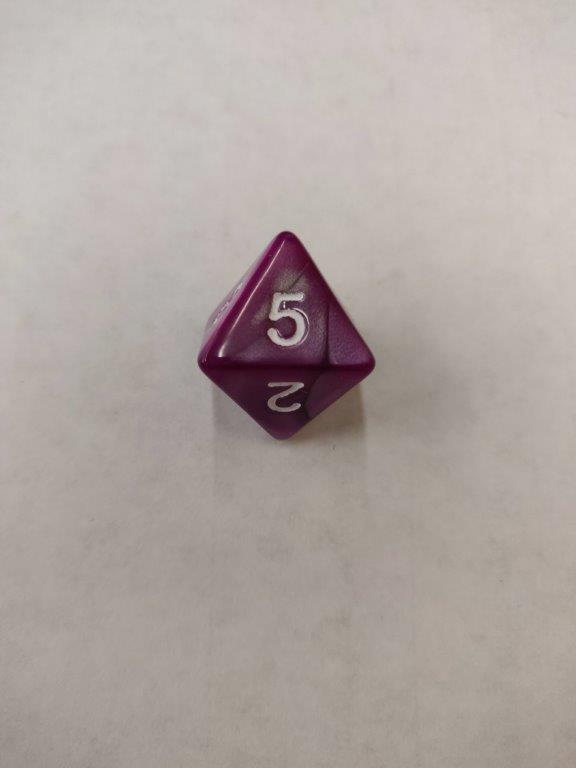d8-5: (196, 229, 379, 442)
